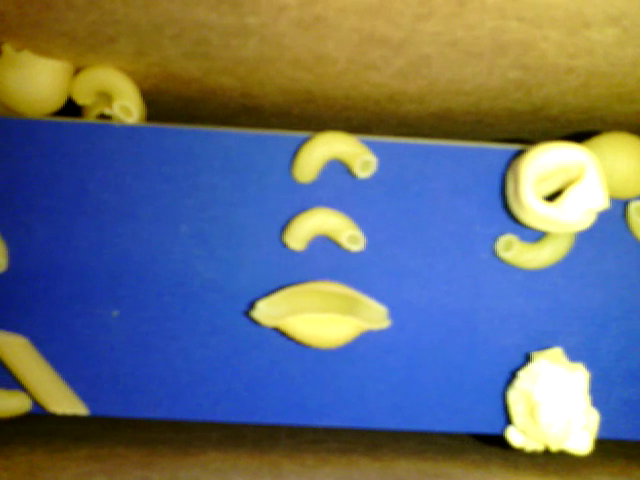elbow: (291, 131, 378, 185), (69, 66, 140, 123), (280, 208, 366, 253), (496, 231, 574, 269), (1, 388, 31, 419), (625, 201, 639, 237)
penne: (1, 331, 88, 415)
shell: (247, 279, 390, 348), (1, 44, 75, 115), (580, 131, 639, 200), (82, 92, 120, 121)
tortellini: (503, 142, 610, 232)
